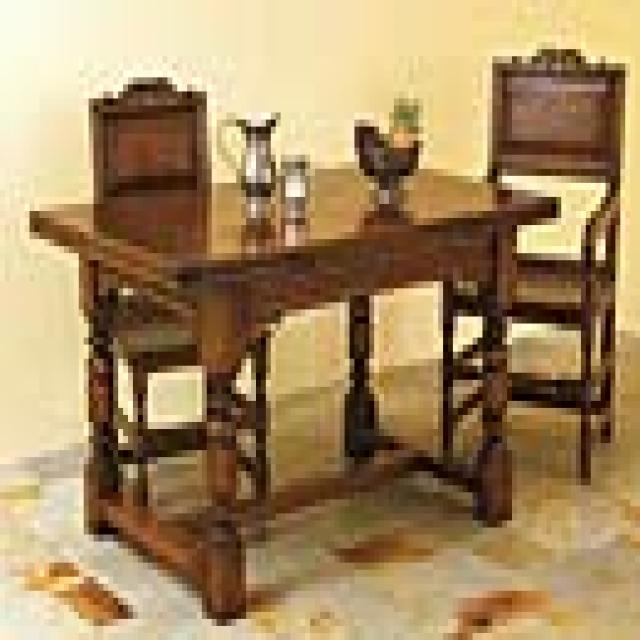table: (25, 164, 565, 630)
